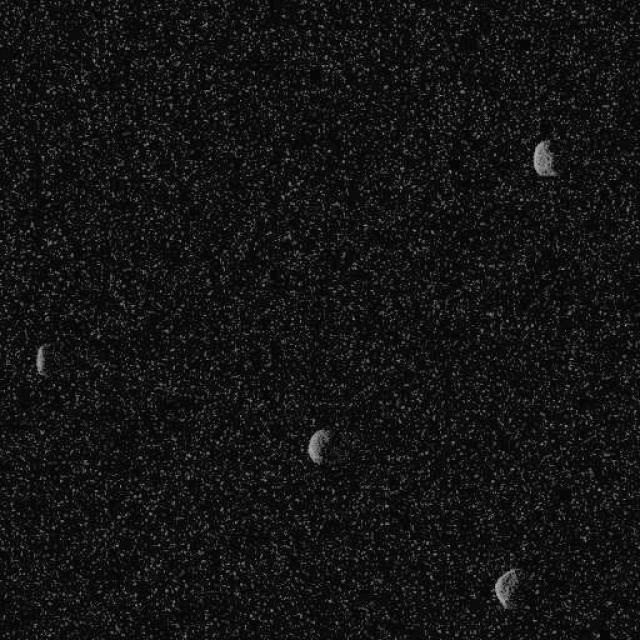D2: (532, 138, 558, 178), (494, 568, 518, 610), (306, 427, 330, 465), (34, 342, 48, 377)
